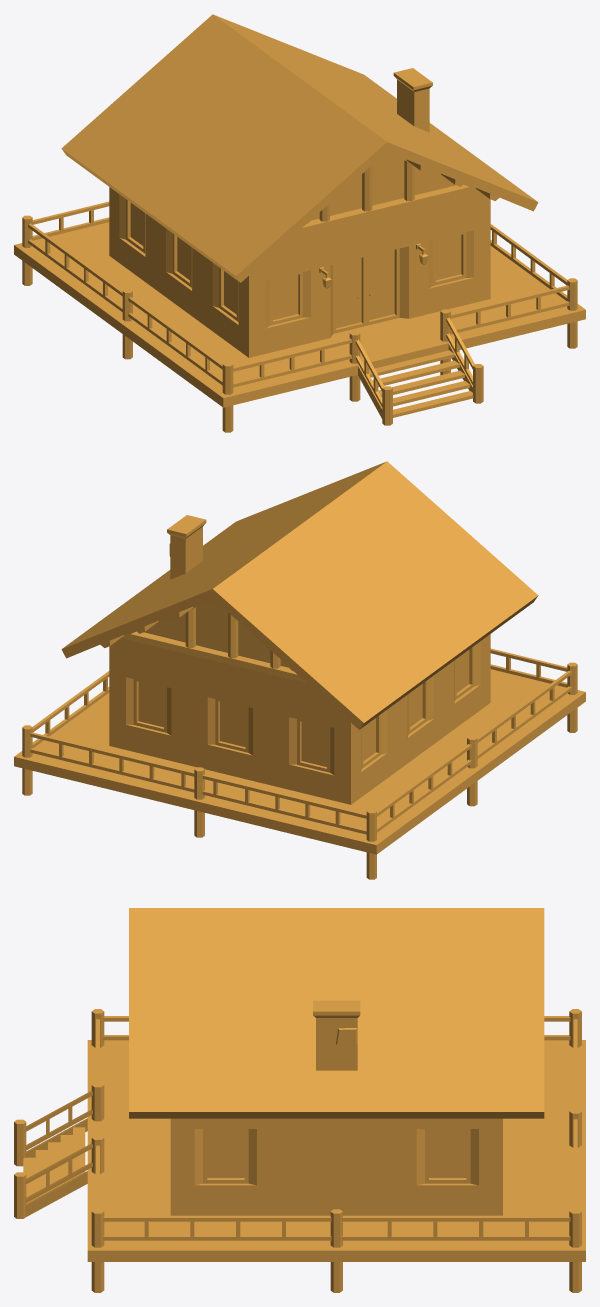
Rendered from building-cabin-big.fbx.
The picture shows the model from 3 angles, top to bottom: view 1: azimuth 30°, elevation 25°; view 2: azimuth 150°, elevation 25°; view 3: azimuth 270°, elevation 25°; orthographic projection. The views are drawn at different scales.
Visible parts, largest first — view 1: building-cabin-big; view 2: building-cabin-big; view 3: building-cabin-big.
Part boxes in pixels (box(x1,y1,x2,y2)): building-cabin-big: box(14, 14, 585, 432); building-cabin-big: box(14, 461, 585, 879); building-cabin-big: box(14, 908, 585, 1292).
Size of the model in its own units: 12 by 7.5 by 13.77.
